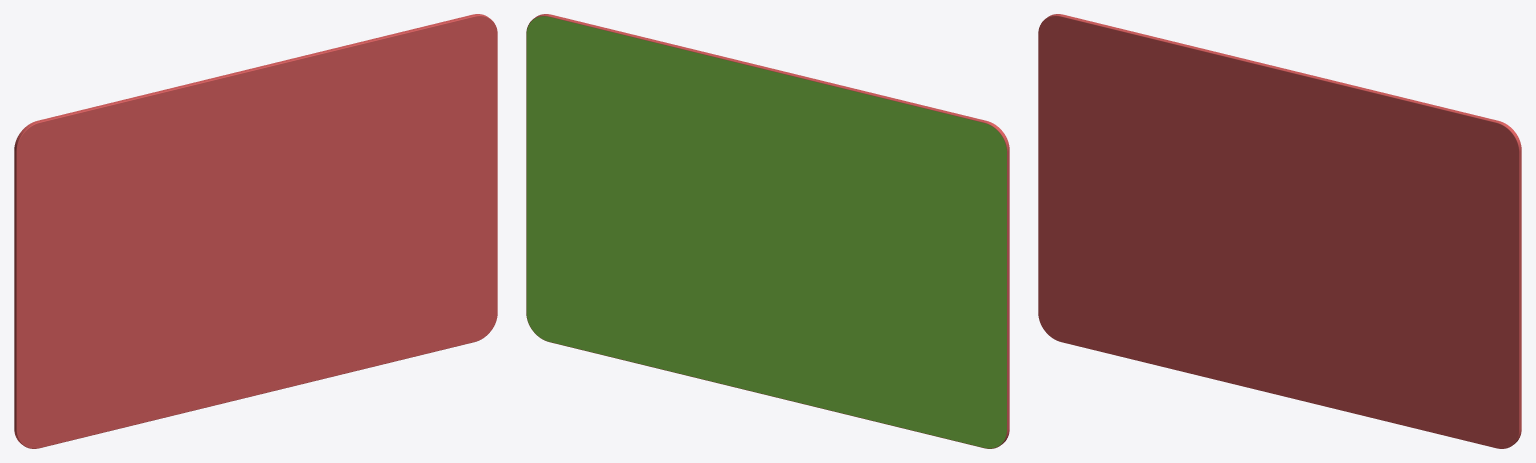
File: card_no_chip.glb
The picture shows the model from 3 angles, left to right: view 1: azimuth 30°, elevation 25°; view 2: azimuth 150°, elevation 25°; view 3: azimuth 330°, elevation 25°; orthographic projection.
Parts seen in each view (by area): view 1: card_no_chip; view 2: card_no_chip; view 3: card_no_chip.
Part boxes in pixels (bbox=[...]): card_no_chip: bbox=[14, 14, 497, 448]; card_no_chip: bbox=[526, 14, 1009, 448]; card_no_chip: bbox=[1038, 14, 1521, 448].
Bounding box in the file's own units: 8.5 × 5.5 × 0.0761.
